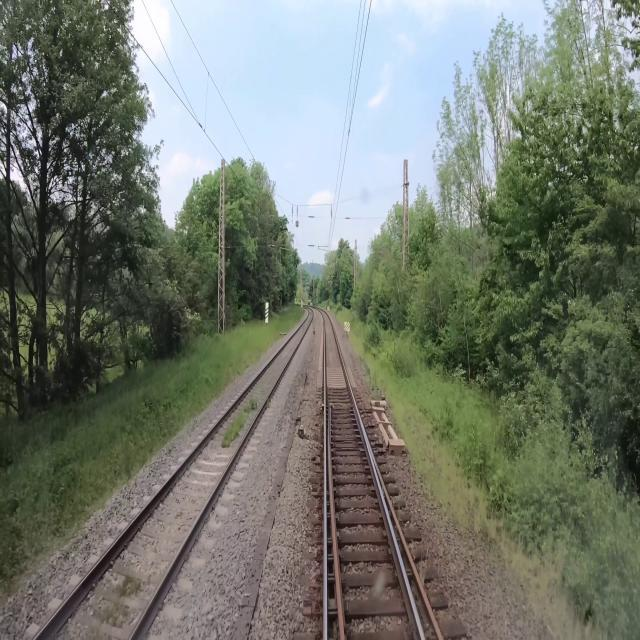Plant: (393, 409, 470, 538), (222, 398, 257, 448), (98, 601, 128, 626), (117, 574, 142, 598)
